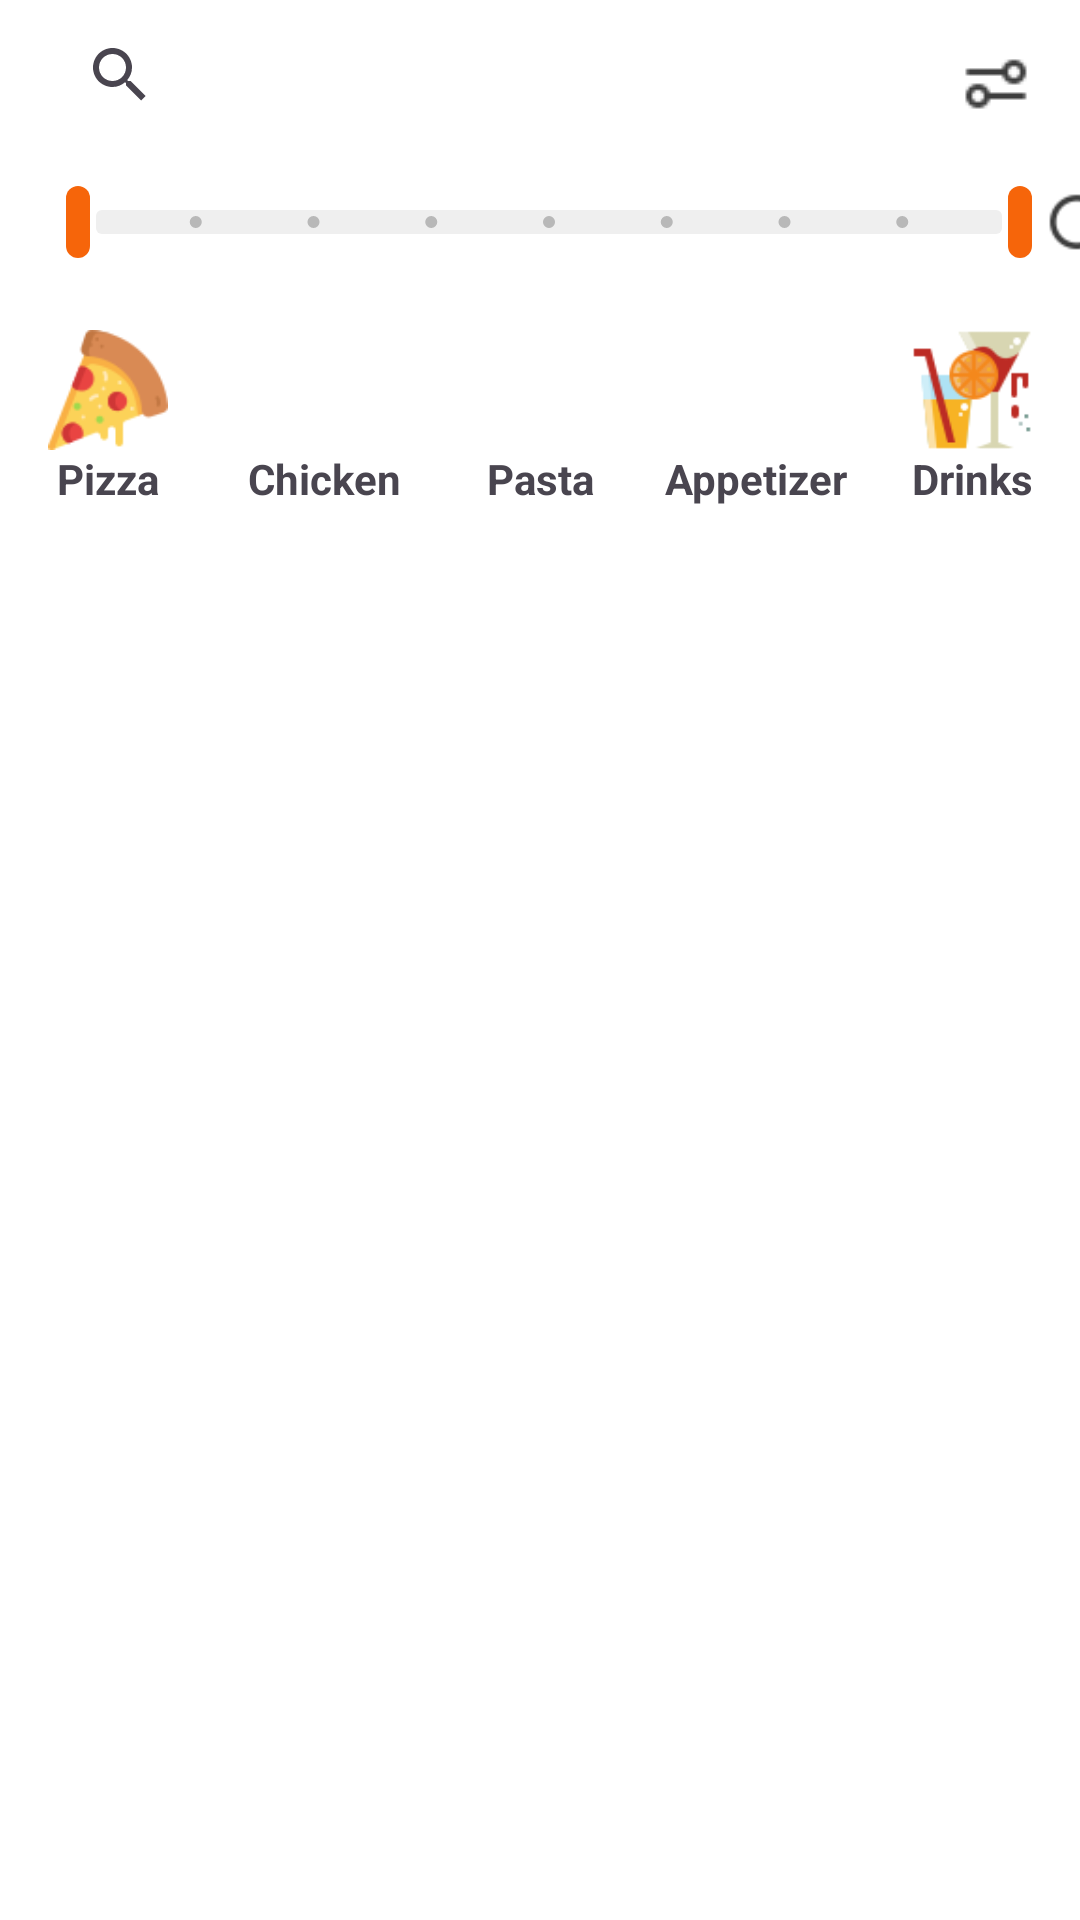

Named icons in this screenshot (1080x1920) and their centers, (x,y):
filter: (996,84)
